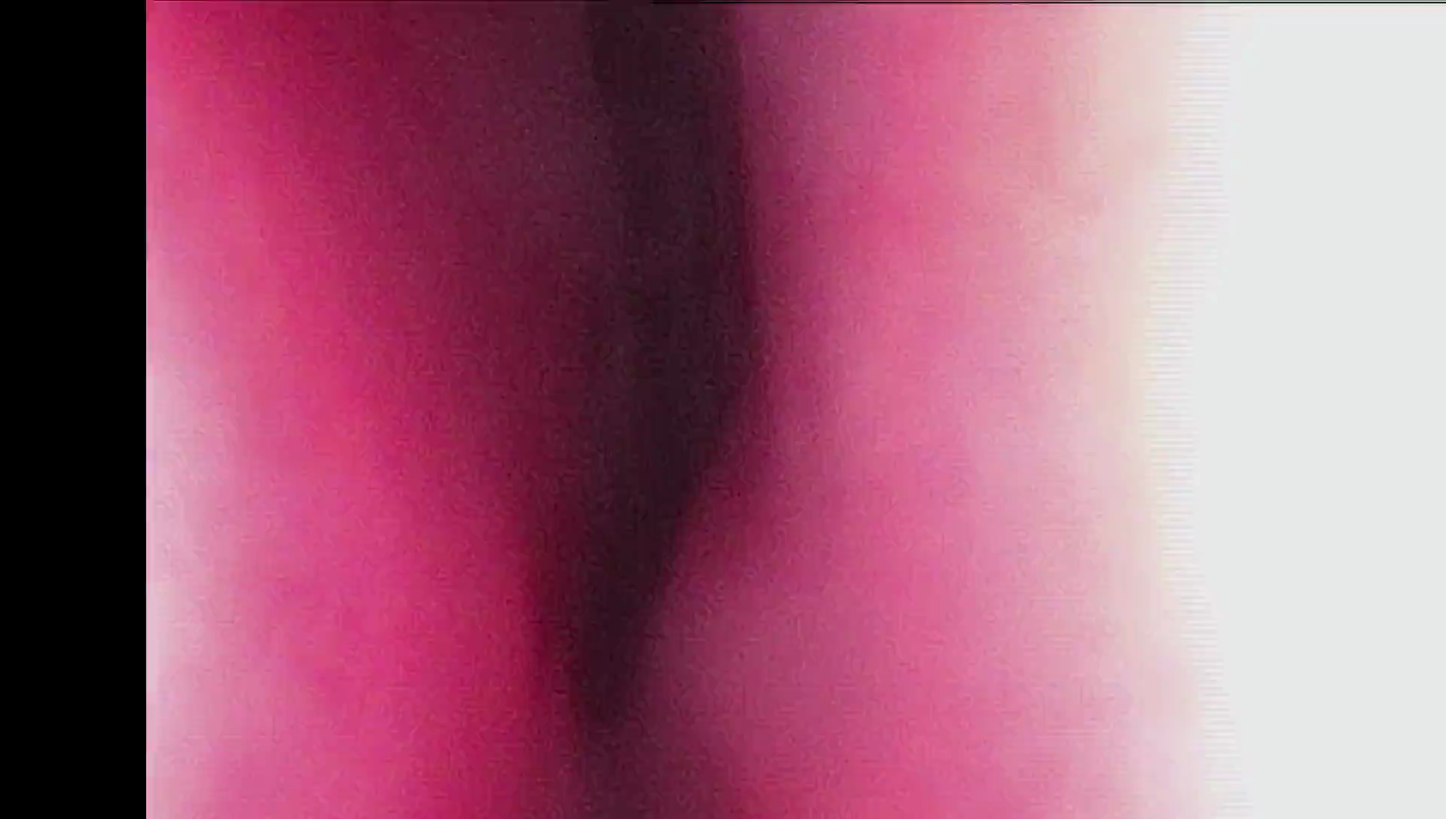close_wall: (865, 13, 1446, 819), (152, 205, 411, 819)
next: (495, 477, 724, 763), (581, 145, 806, 436), (547, 296, 739, 590)
